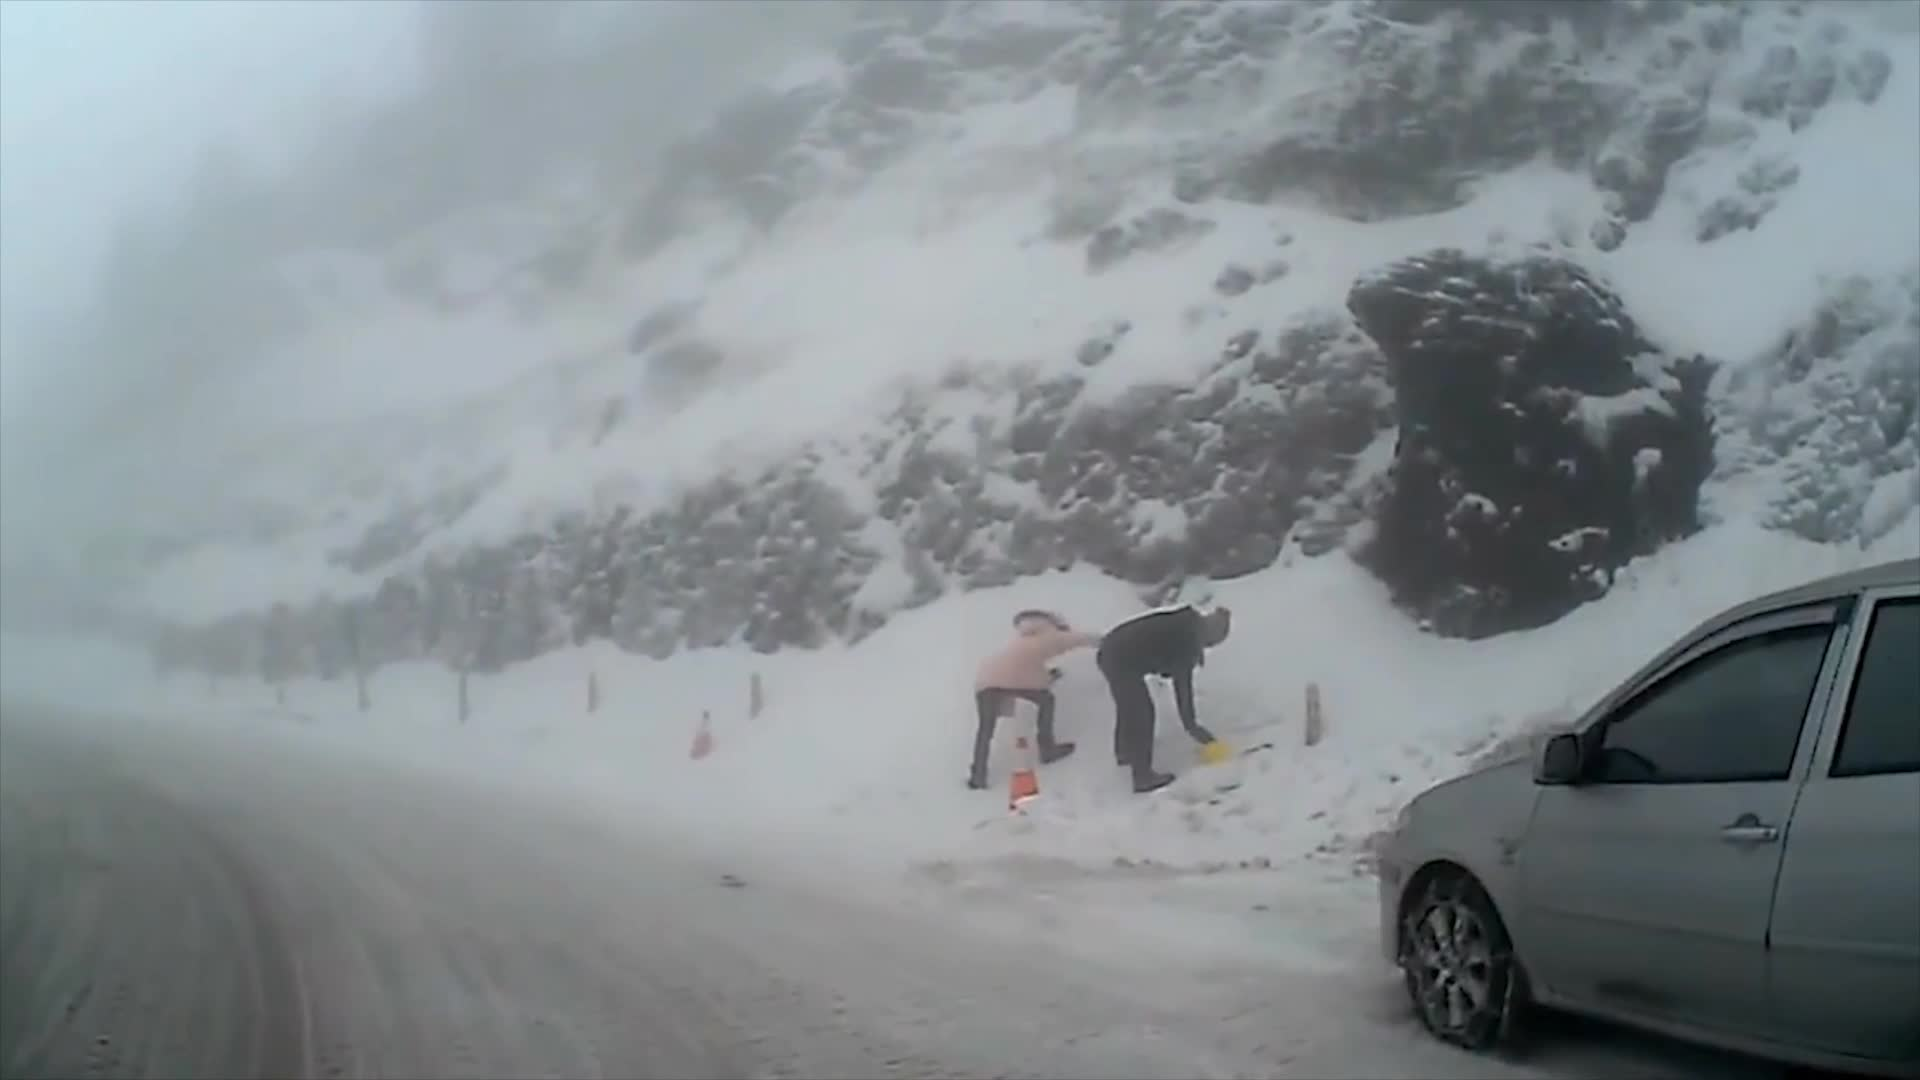pedestrian: (1095, 604, 1230, 792), (962, 602, 1100, 788)
vehicle: (1368, 555, 1920, 1080)
